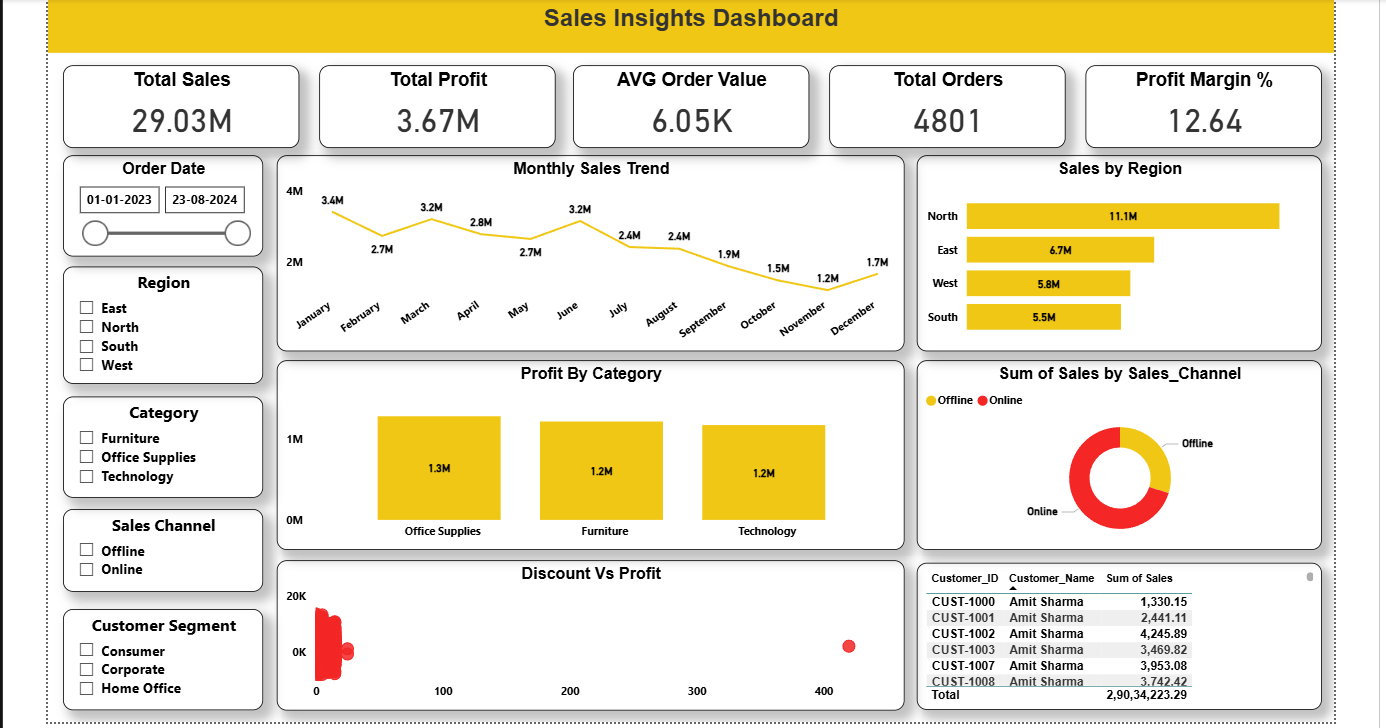

The dashboard page shown, as its layout file describes it:
{"tool":"powerbi","page":{"name":"Page 1","canvas":[1280,720],"ordinal":0},"visuals":[{"type":"card","title":"Total Sales","fields":{"Values":["clean_sales_data.Total Sales"]},"box":[14.9,65.9,235,82.1],"z":0},{"type":"card","title":"Total Profit","fields":{"Values":["clean_sales_data.Total Profit"]},"box":[269.9,65.9,235.1,82.1],"z":1000},{"type":"card","title":"Total Orders","fields":{"Values":["clean_sales_data.Total Orders"]},"box":[777.5,65.9,235,82.1],"z":2000},{"type":"card","title":"Profit Margin %","fields":{"Values":["clean_sales_data.Profit Margin %"]},"box":[1032.5,65.9,235.1,82.1],"z":3000},{"type":"card","title":"AVG Order Value","fields":{"Values":["clean_sales_data.AVG Ordr Value"]},"box":[522.5,65.9,235.1,82.1],"z":4000},{"type":"lineChart","title":"Monthly Sales Trend","fields":{"Category":["clean_sales_data.Order_Date.Variation.Date Hierarchy.Month"],"Y":["clean_sales_data.Sales"]},"box":[227.6,155.5,624.5,195.3],"z":5000},{"type":"barChart","title":" Sales by Region","fields":{"Y":["clean_sales_data.Sales"],"Category":["clean_sales_data.Region"]},"box":[864.6,155.5,403,195.3],"z":6000},{"type":"columnChart","title":"Profit By Category","fields":{"Category":["clean_sales_data.Category"],"Y":["clean_sales_data.Profit"]},"box":[227.6,359.5,624.5,189.1],"z":7000},{"type":"tableEx","fields":{"Values":["clean_sales_data.Customer_ID","clean_sales_data.Customer_Name","clean_sales_data.Sales"]},"box":[864.6,561,403,146.8],"z":8000},{"type":"scatterChart","title":"Discount Vs Profit","fields":{"X":["clean_sales_data.Discount_Percent"],"Y":["clean_sales_data.Profit"],"Category":["clean_sales_data.Sales"]},"box":[227.6,558.5,624.5,149.3],"z":9000},{"type":"donutChart","fields":{"Series":["clean_sales_data.Sales_Channel"],"Y":["clean_sales_data.Sales"]},"box":[864.6,359.5,403,189.1],"z":10000},{"type":"textbox","box":[0,0,1280.3,53.5],"z":11000},{"type":"slicer","title":"Order Date","fields":{"Values":["clean_sales_data.Order_Date"]},"box":[14.9,155.5,199,100.8],"z":12000},{"type":"slicer","title":"Region","fields":{"Values":["clean_sales_data.Region"]},"box":[14.9,266.2,199,116.9],"z":13000},{"type":"slicer","title":"Category","fields":{"Values":["clean_sales_data.Category"]},"box":[14.9,395.6,199,100.8],"z":14000},{"type":"slicer","title":"Sales Channel","fields":{"Values":["clean_sales_data.Sales_Channel"]},"box":[14.9,507.5,199,82.1],"z":15000},{"type":"slicer","title":"Customer Segment","fields":{"Values":["clean_sales_data.Customer_Segment"]},"box":[14.9,607.1,199,100.8],"z":16000}]}

Visuals, with their boxes in screenshot pixels (x1, y1, x2, y2):
"Total Sales" card: (left=62, top=66, right=296, bottom=148)
"Total Profit" card: (left=316, top=66, right=551, bottom=148)
"Total Orders" card: (left=823, top=66, right=1058, bottom=148)
"Profit Margin %" card: (left=1078, top=66, right=1313, bottom=148)
"AVG Order Value" card: (left=569, top=66, right=803, bottom=148)
"Monthly Sales Trend" lineChart: (left=274, top=155, right=898, bottom=350)
" Sales by Region" barChart: (left=910, top=155, right=1313, bottom=350)
"Profit By Category" columnChart: (left=274, top=359, right=898, bottom=548)
tableEx - clean_sales_data.Customer_ID x clean_sales_data.Customer_Name: (left=910, top=560, right=1313, bottom=707)
"Discount Vs Profit" scatterChart: (left=274, top=558, right=898, bottom=707)
donutChart - clean_sales_data.Sales_Channel x clean_sales_data.Sales: (left=910, top=359, right=1313, bottom=548)
textbox: (left=47, top=0, right=1325, bottom=53)
"Order Date" slicer: (left=62, top=155, right=261, bottom=256)
"Region" slicer: (left=62, top=266, right=261, bottom=383)
"Category" slicer: (left=62, top=395, right=261, bottom=496)
"Sales Channel" slicer: (left=62, top=507, right=261, bottom=589)
"Customer Segment" slicer: (left=62, top=606, right=261, bottom=707)
